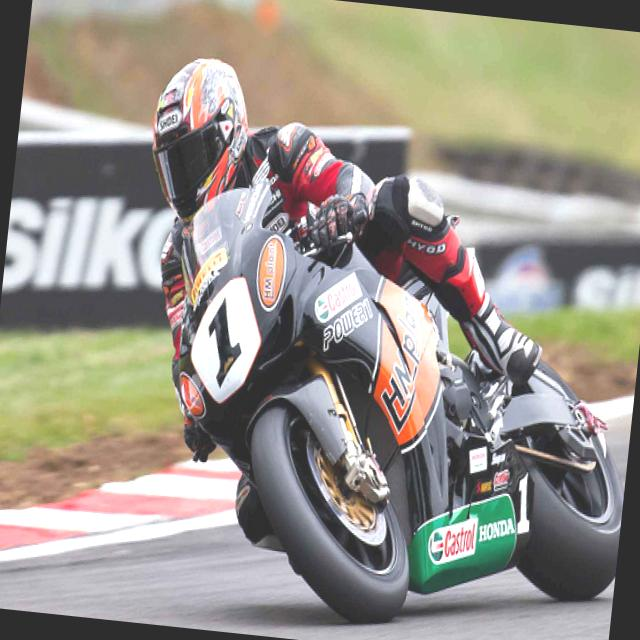Vehicle: (138, 176, 640, 640)
